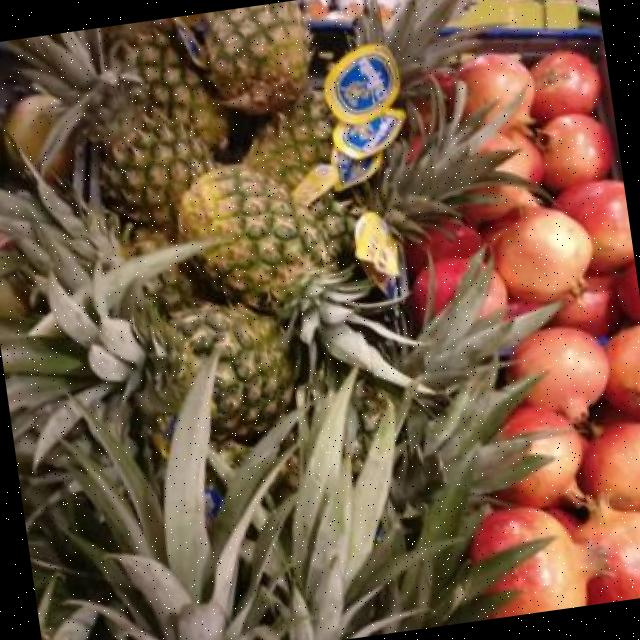pineapple: (70, 355, 314, 640), (180, 164, 409, 384), (30, 266, 293, 439), (9, 28, 212, 229), (175, 1, 308, 113), (139, 29, 227, 161), (357, 0, 469, 86), (245, 90, 333, 188)
